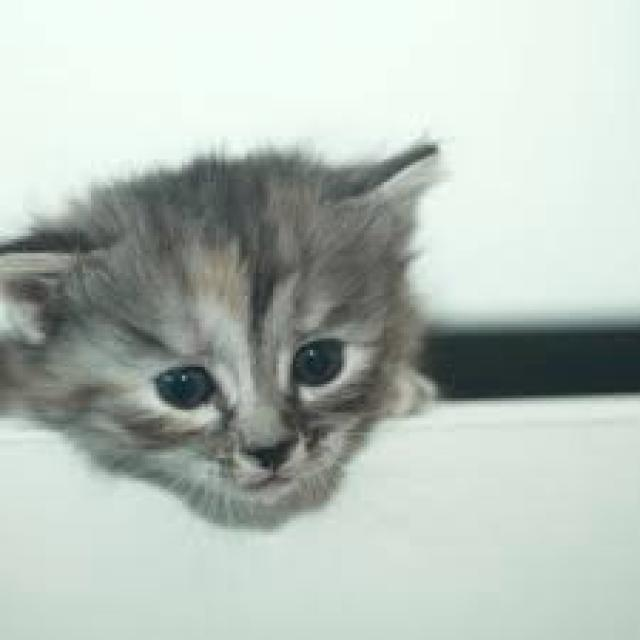cat: (0, 142, 438, 526)
